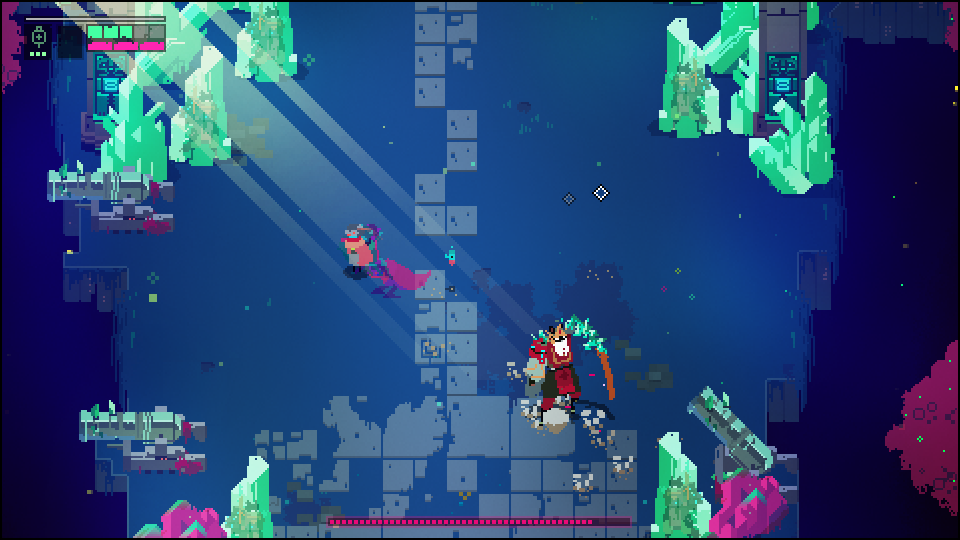hanged_man: (524, 313, 615, 417)
player: (344, 229, 370, 269)
